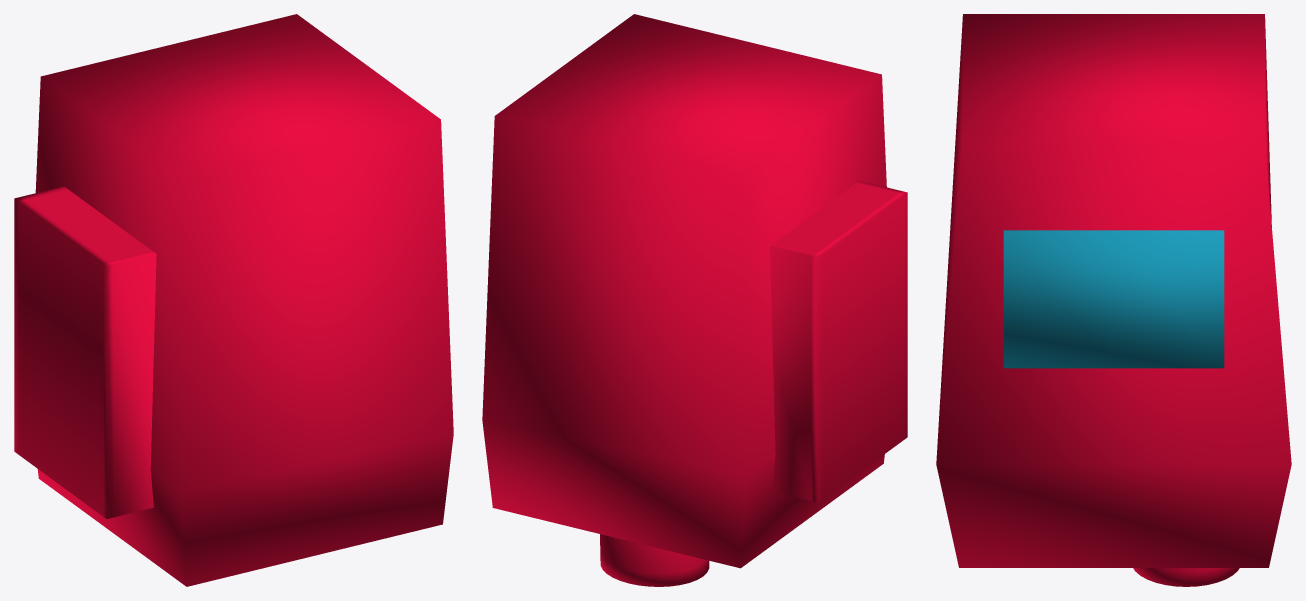
3 renders of one model, left to right at view 1: azimuth 30°, elevation 25°; view 2: azimuth 150°, elevation 25°; view 3: azimuth 270°, elevation 25°, orthographic. The views are drawn at different scales.
Parts seen in each view (by area): view 1: Torso, mochila; view 2: Torso, mochila, piernas; view 3: Torso, gafas, piernas.
Part boxes in pixels (<box>): Torso: <box>35,14,453,586</box>; mochila: <box>14,186,156,518</box>; Torso: <box>482,14,886,568</box>; mochila: <box>770,180,907,502</box>; piernas: <box>600,534,709,586</box>; Torso: <box>936,14,1291,567</box>; gafas: <box>1003,230,1224,368</box>; piernas: <box>1133,568,1239,586</box>.
Size of the model in its own units: 2.6 by 3.43 by 2.29.
